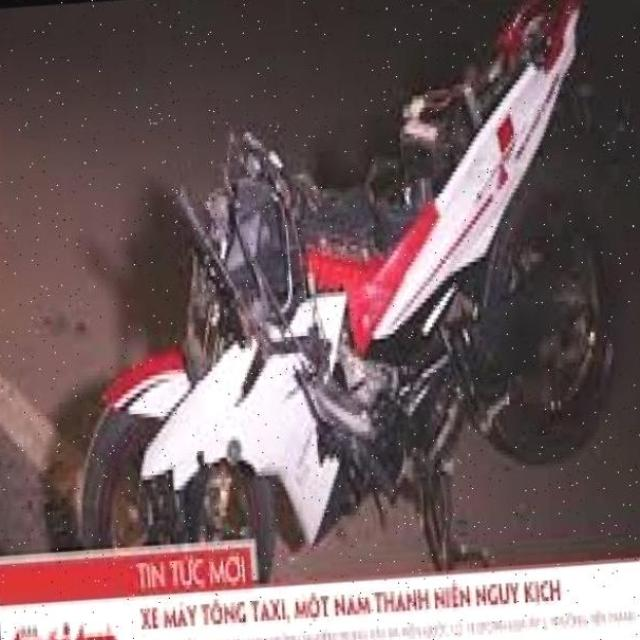accident: (47, 0, 603, 592)
